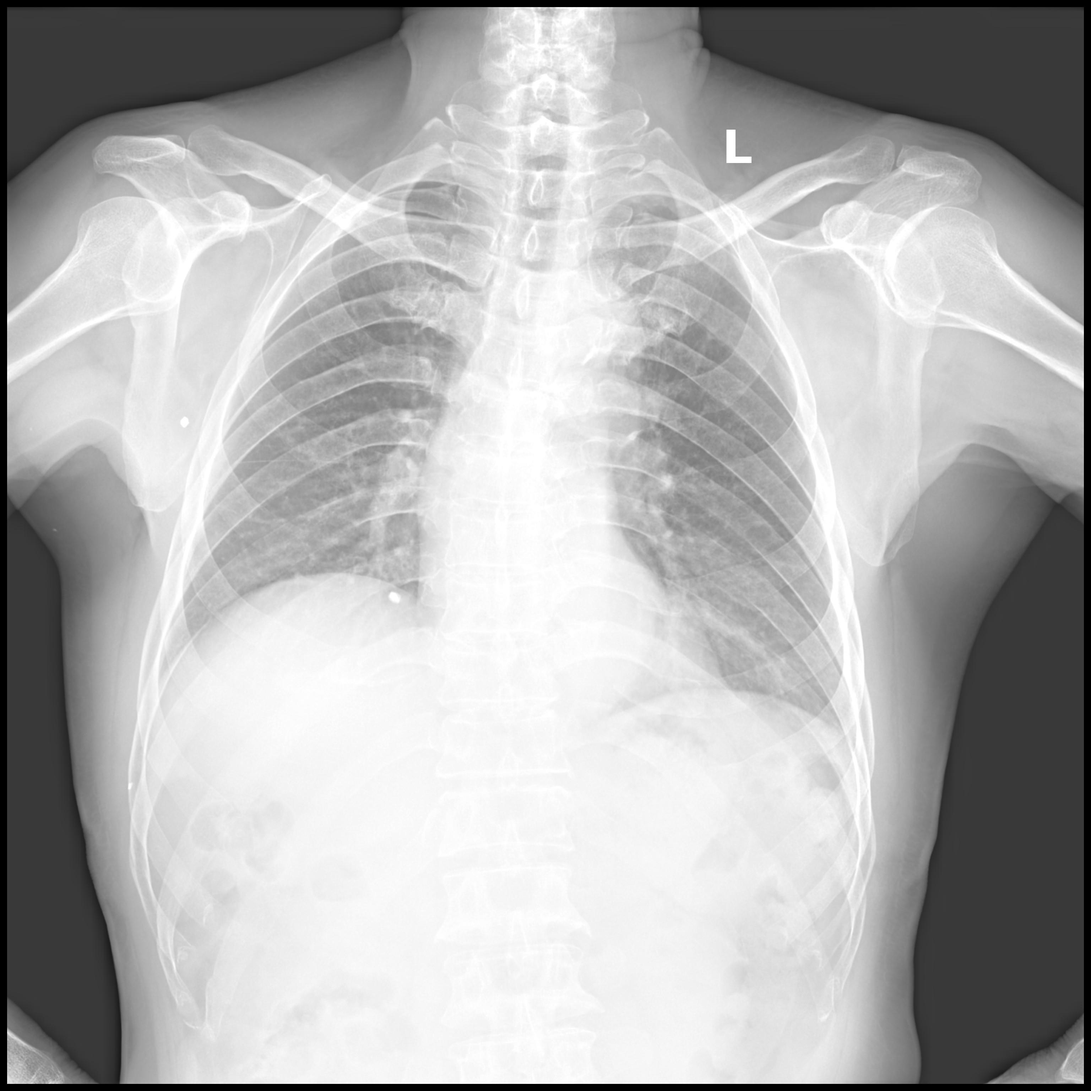Aortic enlargement: (539, 276, 645, 419)
Pleural thickening: (624, 191, 726, 240)
